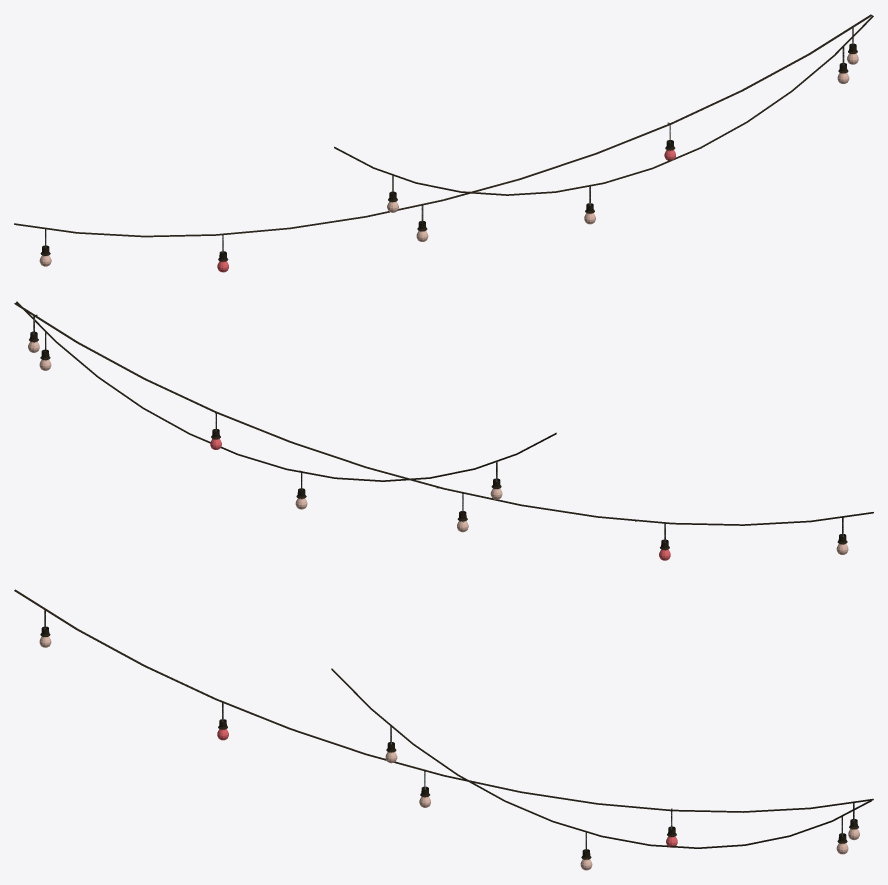
The model's file is D-Lights.fbx.
3 views of the same model, one above another, from view 1: azimuth 30°, elevation 25°; view 2: azimuth 150°, elevation 25°; view 3: azimuth 330°, elevation 25° (orthographic).
Parts seen in each view (by area): view 1: Group2, Group1; view 2: Group2, Group1; view 3: Group2, Group1.
Part boxes in pixels (<box>): Group2: <box>14,14,872,272</box>; Group1: <box>334,15,873,224</box>; Group2: <box>14,303,873,560</box>; Group1: <box>16,301,556,509</box>; Group2: <box>14,589,873,847</box>; Group1: <box>331,668,871,870</box>.
Bounding box in the file's own units: 12527 × 1932 × 233.
